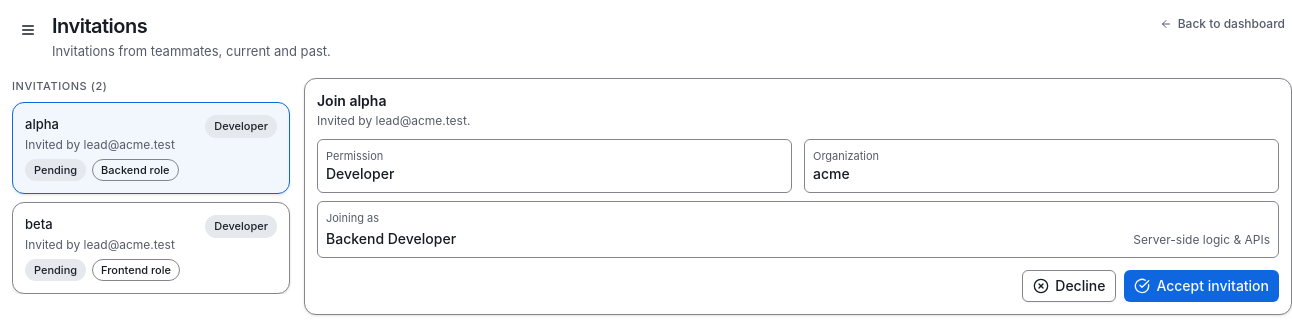
Test: InvitationsPage invitation lifecycle (#72) › keeps the declined invitation listed and turns the pane read-only
Expected: the heading "Join alpha" is shown, x1=317 y1=92 x2=386 y2=108
Click the button "Decline" at (1069, 286), box x1=1022 y1=270 x2=1116 y2=302
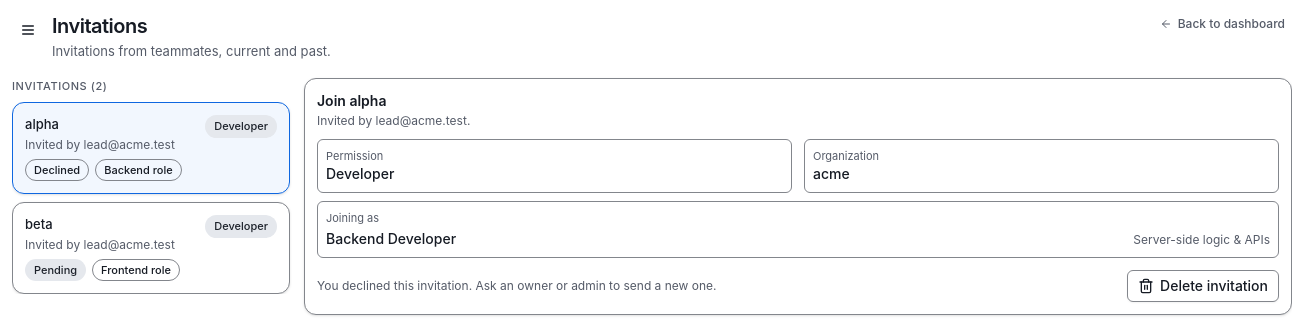
Expected: the text "declined" is shown, x1=25 y1=158 x2=89 y2=181
Expected: the button "Accept invitation" is gone
Expected: the text "You declined this invitation" is shown, x1=317 y1=278 x2=716 y2=292
